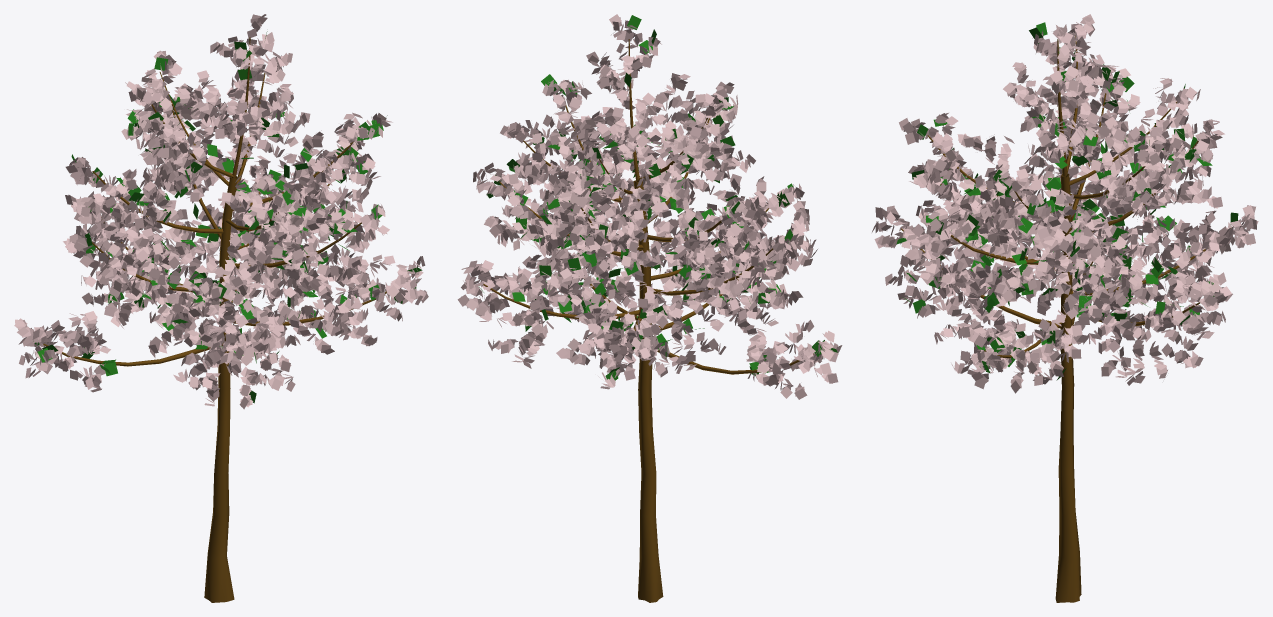
File: Baum 7.FBX
3 views of the same model, side by side, from view 1: azimuth 30°, elevation 25°; view 2: azimuth 150°, elevation 25°; view 3: azimuth 270°, elevation 25° (orthographic). The views are drawn at different scales.
Visible parts, largest first — view 1: Foliage013; view 2: Foliage013; view 3: Foliage013.
Part boxes in pixels (<box>): Foliage013: <box>14,14,428,602</box>; Foliage013: <box>457,14,842,602</box>; Foliage013: <box>872,14,1258,602</box>.
Bounding box in the file's own units: 778 × 1188 × 702.
